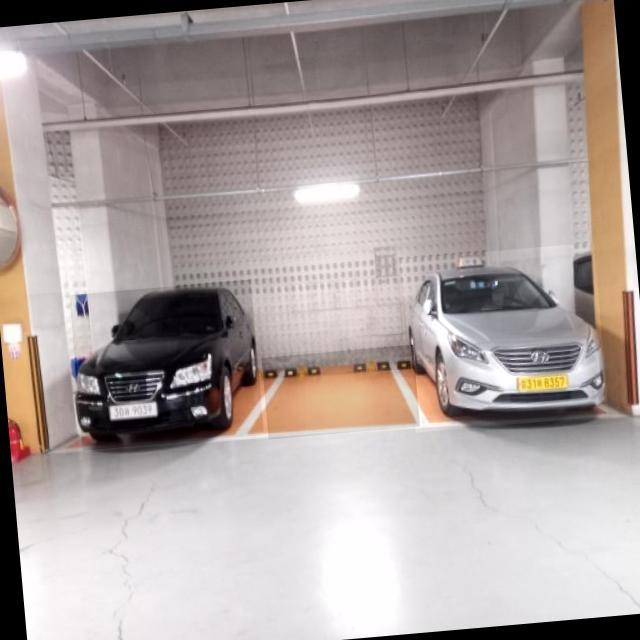empty: (261, 344, 420, 439)
occupied: (401, 242, 608, 432), (69, 280, 264, 450)
